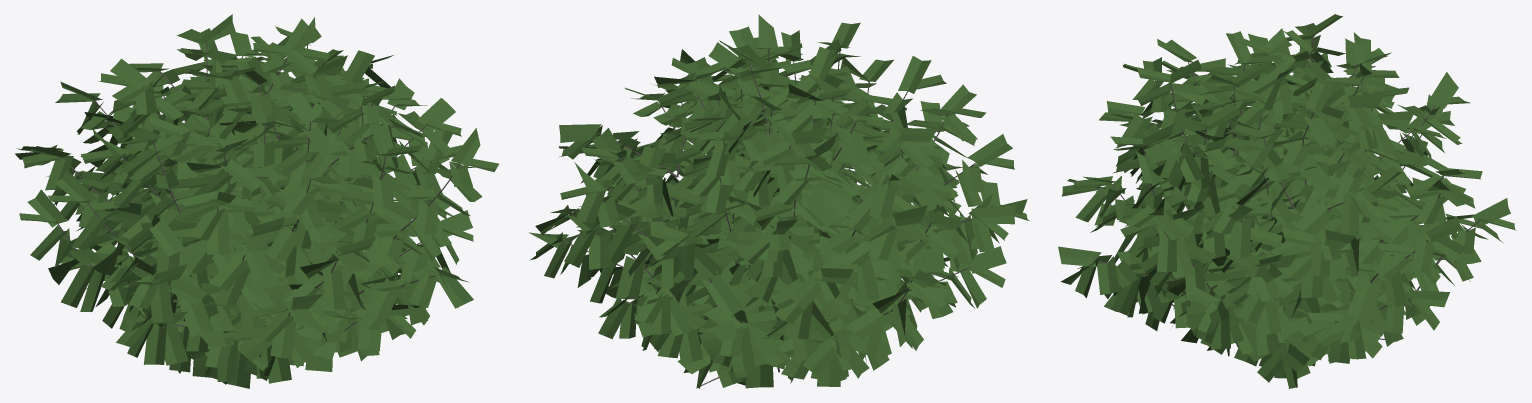
The model's file is bush_b.glb.
3 renders of one model, left to right at view 1: azimuth 30°, elevation 25°; view 2: azimuth 150°, elevation 25°; view 3: azimuth 270°, elevation 25°, orthographic. The views are drawn at different scales.
Visible parts, largest first — view 1: bq_Shrub_Carpinus-betulus_A_summer; view 2: bq_Shrub_Carpinus-betulus_A_summer; view 3: bq_Shrub_Carpinus-betulus_A_summer.
Boxes of the visible parts, x1,y1,x2,y2 form: bq_Shrub_Carpinus-betulus_A_summer: (15,14,498,388); bq_Shrub_Carpinus-betulus_A_summer: (529,14,1029,388); bq_Shrub_Carpinus-betulus_A_summer: (1058,14,1516,388).
Bounding box in the file's own units: 1.79 × 1.3 × 1.83.
